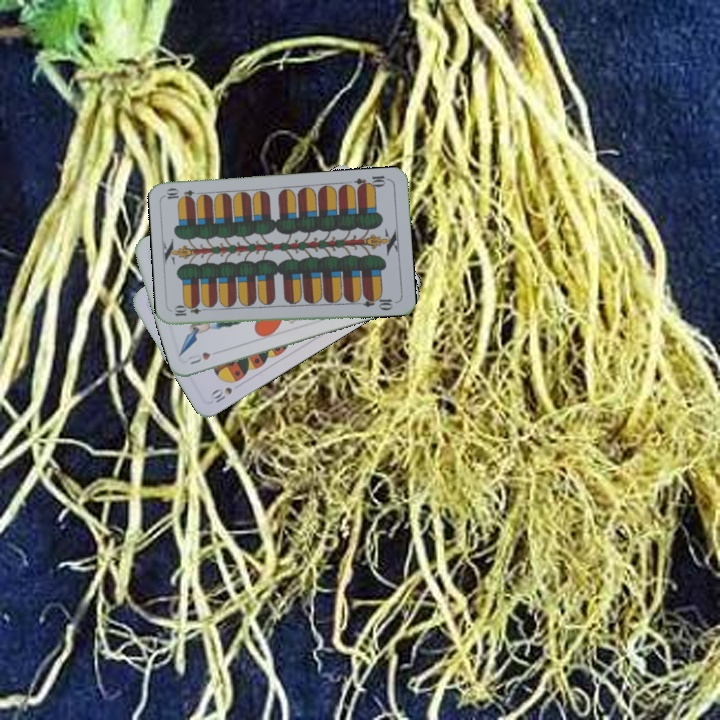E10: (351, 171, 392, 192), (170, 303, 211, 319)
HU: (184, 348, 213, 367)
S10: (206, 383, 235, 405)
